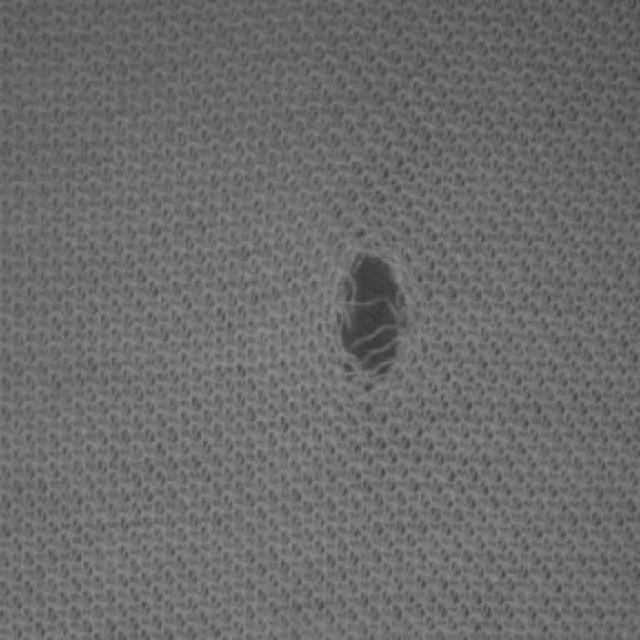Hole: (338, 251, 409, 375)
